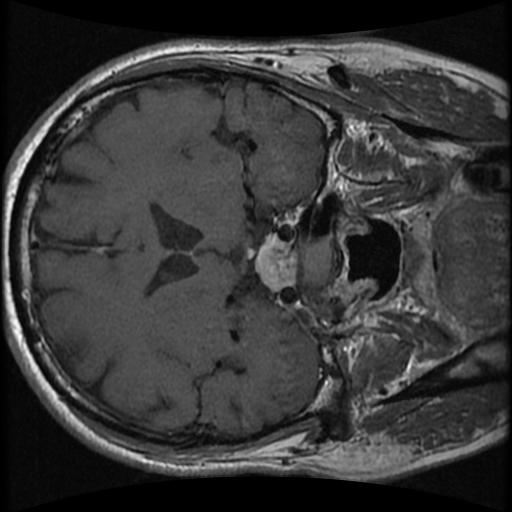pituitary tumour: (257, 238, 296, 292)
